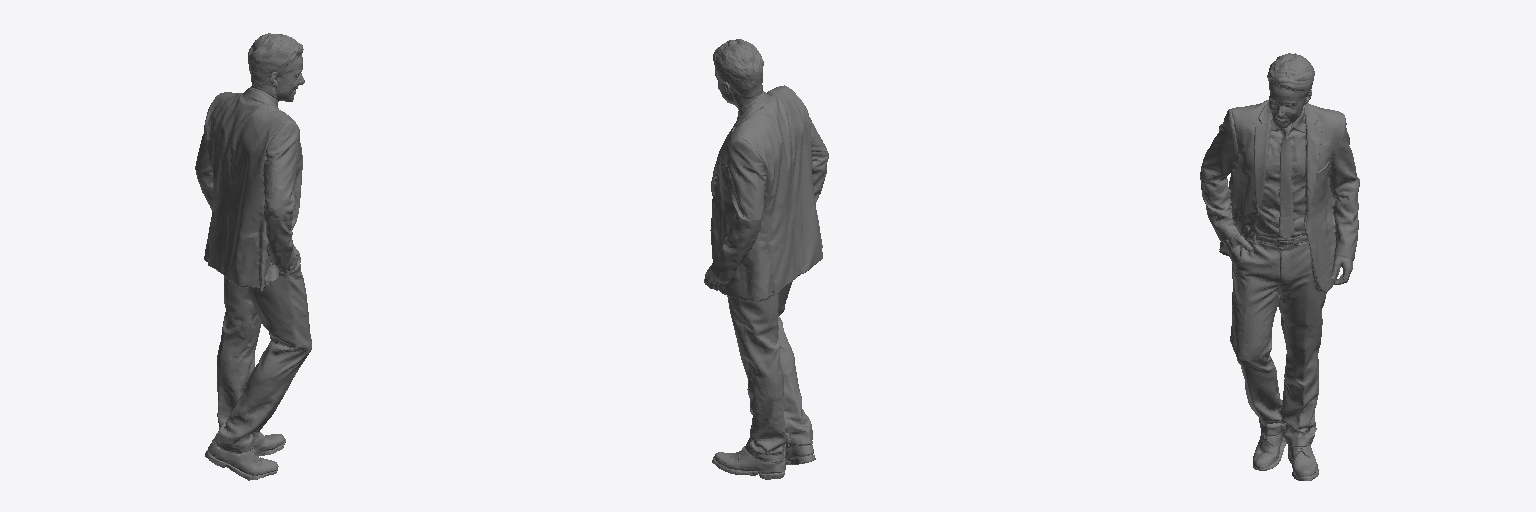
The model's file is Persona1.obj.
3 renders of one model, left to right at view 1: azimuth 30°, elevation 25°; view 2: azimuth 150°, elevation 25°; view 3: azimuth 270°, elevation 25°, orthographic.
Parts seen in each view (by area): view 1: rp_dennis_posed_004_30k; view 2: rp_dennis_posed_004_30k; view 3: rp_dennis_posed_004_30k.
Part boxes in pixels (left/top/right/bottom): rp_dennis_posed_004_30k: left=195, top=33, right=311, bottom=480; rp_dennis_posed_004_30k: left=704, top=39, right=828, bottom=479; rp_dennis_posed_004_30k: left=1200, top=53, right=1359, bottom=480.
Bounding box in the file's own units: 45.88 × 187 × 64.19.